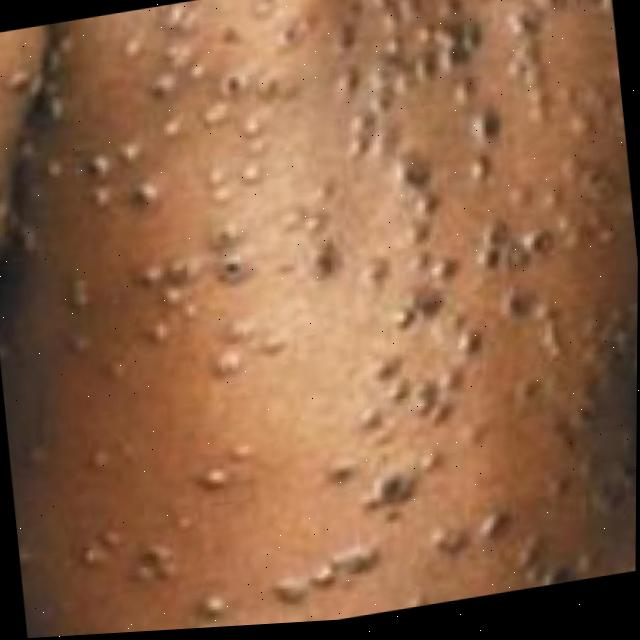Eczema: (5, 0, 640, 639)
